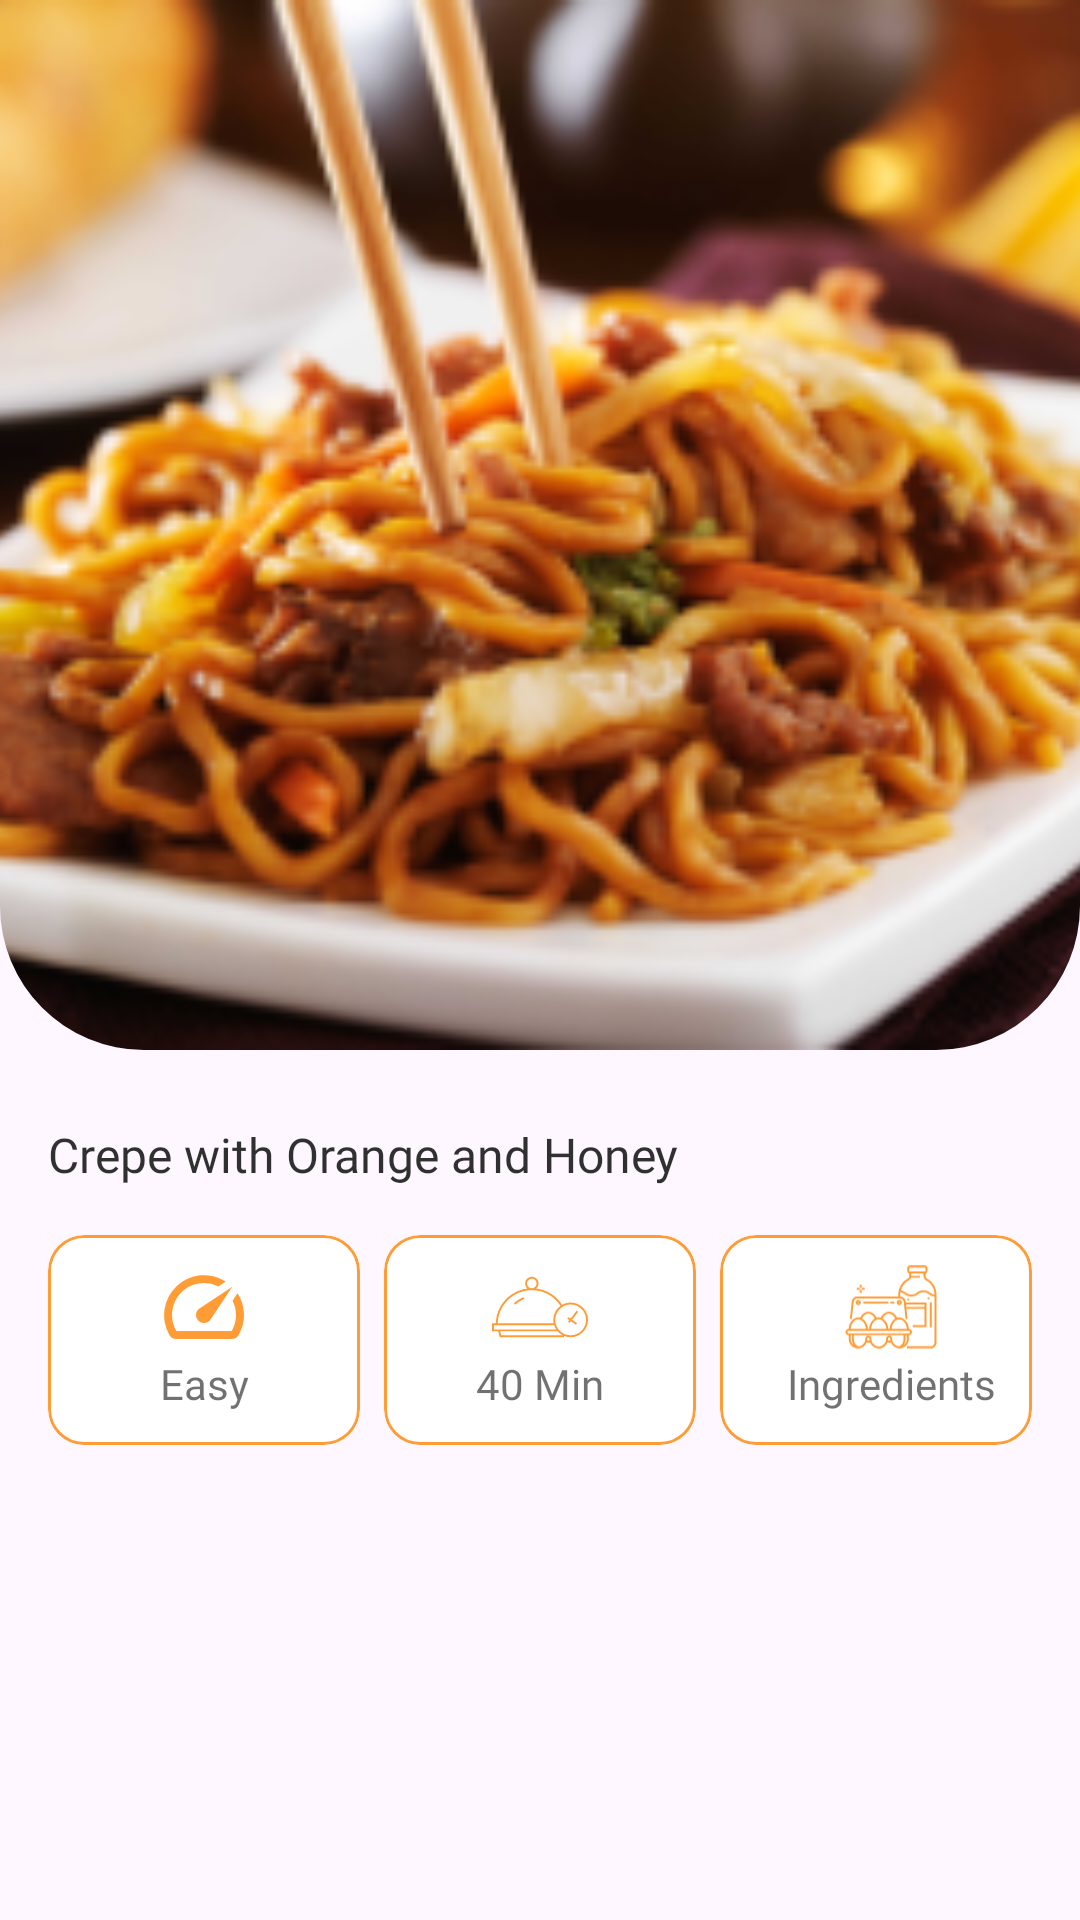

Where icons sit on this 1080px×1920px app screen, as (x1, y1, x2, y2):
level: (164, 1275, 244, 1339)
time: (492, 1276, 588, 1338)
